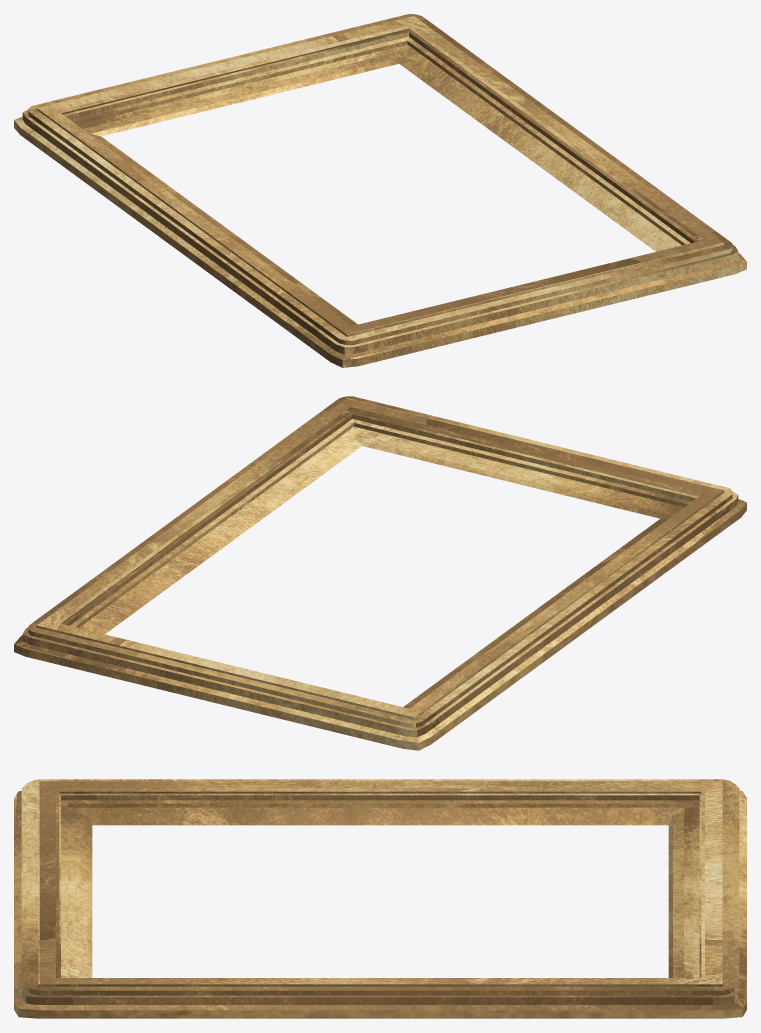
File: frame.fbx
The picture shows the model from 3 angles, top to bottom: view 1: azimuth 30°, elevation 25°; view 2: azimuth 150°, elevation 25°; view 3: azimuth 270°, elevation 25°; orthographic projection. The views are drawn at different scales.
Visible parts, largest first — view 1: Box006; view 2: Box006; view 3: Box006.
Part boxes in pixels (<box>): Box006: <box>14,14,746,367</box>; Box006: <box>14,396,746,750</box>; Box006: <box>14,779,746,1018</box>.
Bounding box in the file's own units: 55.68 × 3.01 × 78.14.
1 material, 1 textured.
